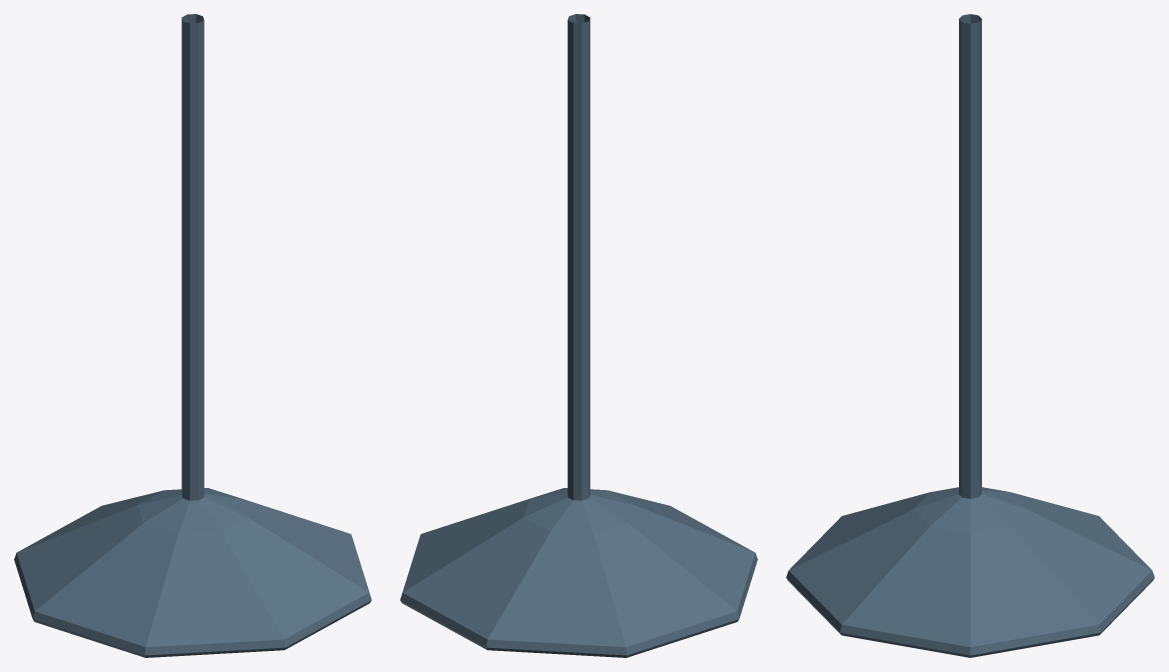
Rendered from SM_LightBulb.fbx.
3 views of the same model, side by side, from view 1: azimuth 30°, elevation 25°; view 2: azimuth 150°, elevation 25°; view 3: azimuth 270°, elevation 25° (orthographic).
Parts seen in each view (by area): view 1: Cylinder.002; view 2: Cylinder.002; view 3: Cylinder.002.
Part boxes in pixels (box(x1,y1,x2,y2)): Cylinder.002: box(14, 14, 371, 657); Cylinder.002: box(400, 14, 757, 657); Cylinder.002: box(786, 14, 1154, 657).
Bounding box in the file's own units: 41.23 × 41.23 × 71.59.
